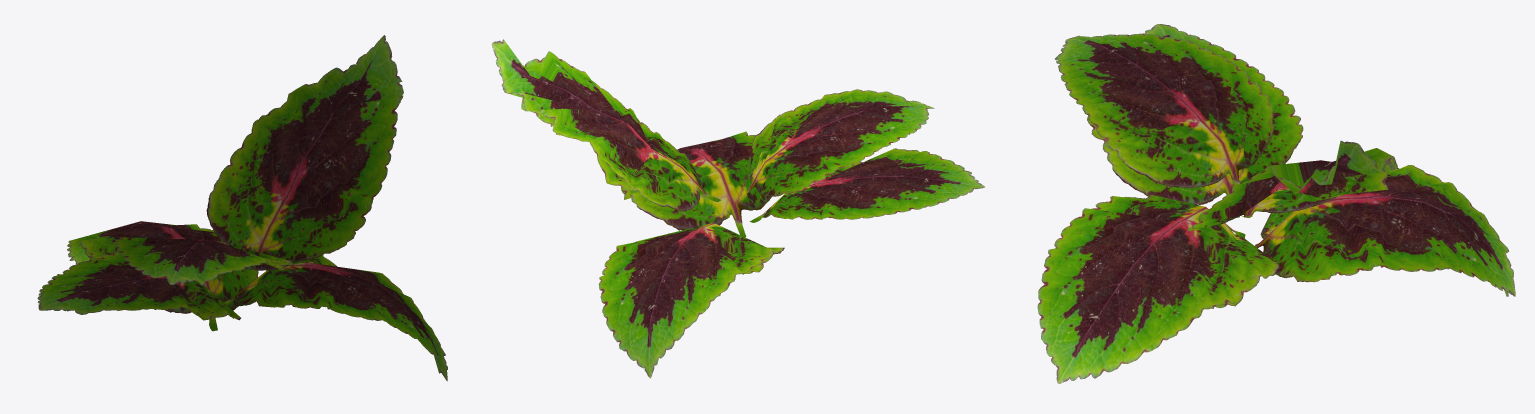
Rendered from PLanta2.fbx.
3 renders of one model, left to right at view 1: azimuth 30°, elevation 25°; view 2: azimuth 150°, elevation 25°; view 3: azimuth 270°, elevation 25°, orthographic. The views are drawn at different scales.
Visible parts, largest first — view 1: Plantita_Mamalona20; view 2: Plantita_Mamalona20; view 3: Plantita_Mamalona20.
Boxes of the visible parts, x1=… form: Plantita_Mamalona20: x1=37, y1=35, x2=447, y2=381; Plantita_Mamalona20: x1=491, y1=39, x2=984, y2=378; Plantita_Mamalona20: x1=1037, y1=24, x2=1515, y2=383.
Bounding box in the file's own units: 153 × 91.99 × 122.
